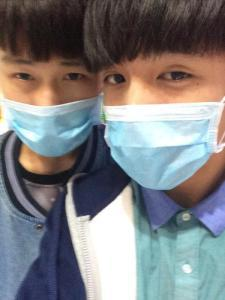OK: (99, 51, 225, 195), (1, 44, 105, 158)
